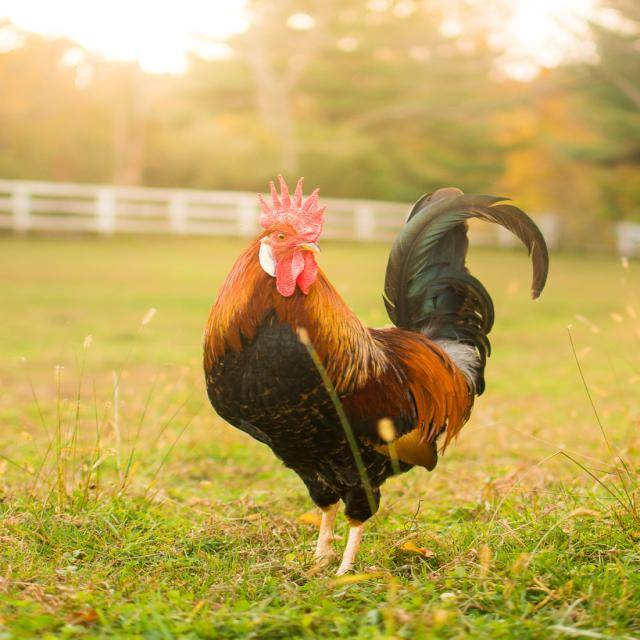Chicken: (202, 173, 549, 574)
